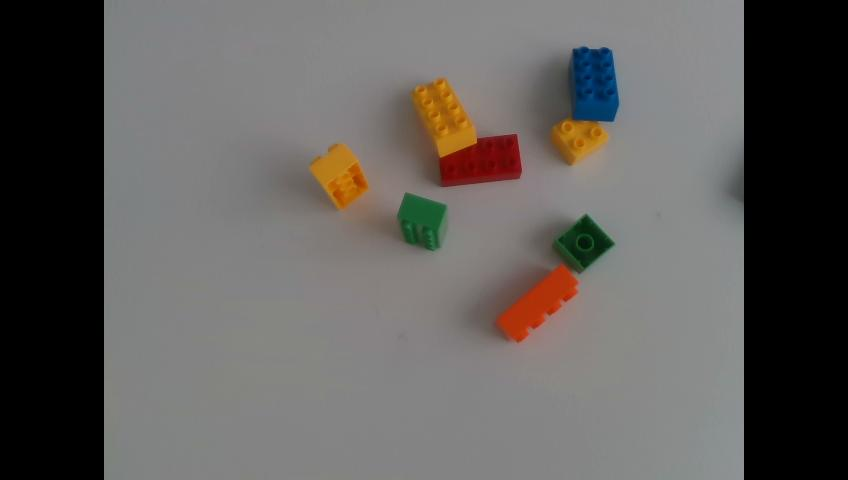2x2_green: (556, 212, 615, 270)
2x2_yellow: (551, 119, 608, 164)
4x2_blue: (571, 45, 620, 120)
4x2_green: (399, 192, 447, 249)
4x2_orange: (496, 264, 579, 341)
4x2_red: (439, 135, 519, 185)
4x2_yellow: (411, 77, 476, 155), (311, 143, 370, 209)
